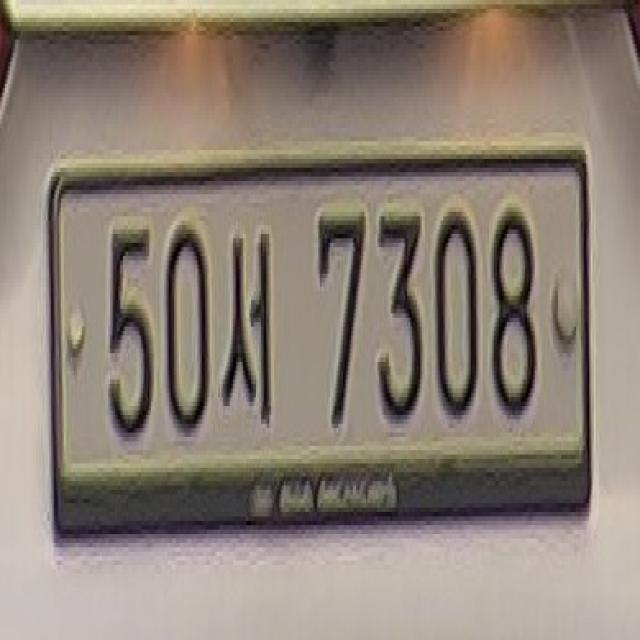0: (432, 200, 483, 429), (164, 206, 211, 436)
3: (369, 189, 424, 434)
5: (101, 216, 156, 444)
7: (312, 206, 367, 438)
8: (488, 183, 546, 424)
license_plate: (30, 141, 598, 561)
seo: (214, 211, 278, 439)
